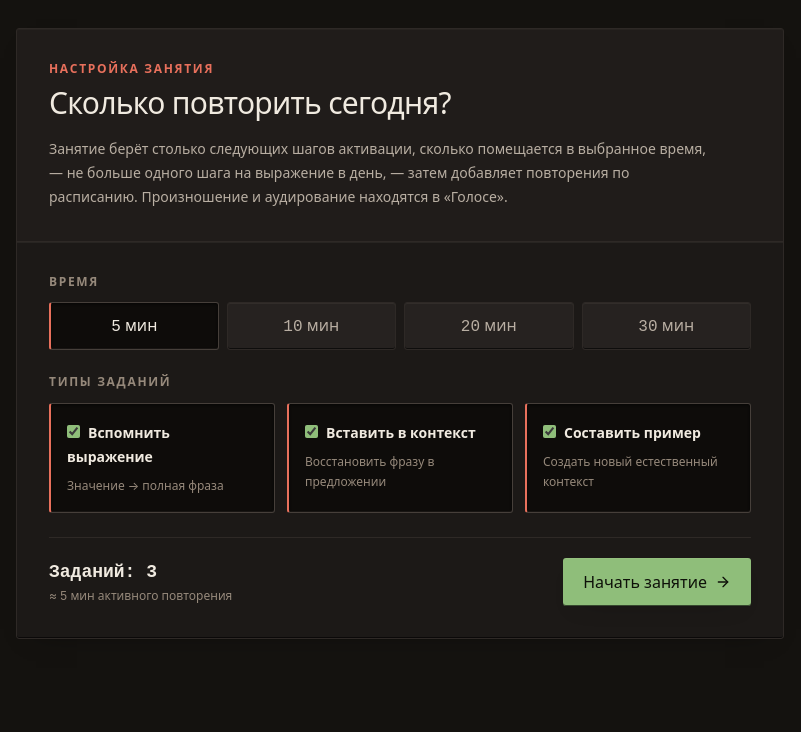
Test: PracticePage cross-route support provenance › keeps one activation lane and two due SRS lanes inside a five-minute session
The image size is (801, 732).
Expected: the text "Заданий: 3" is shown, [49,562,157,582]
Click the button "10 мин".
click(311, 326)  # box [226,302,396,350]
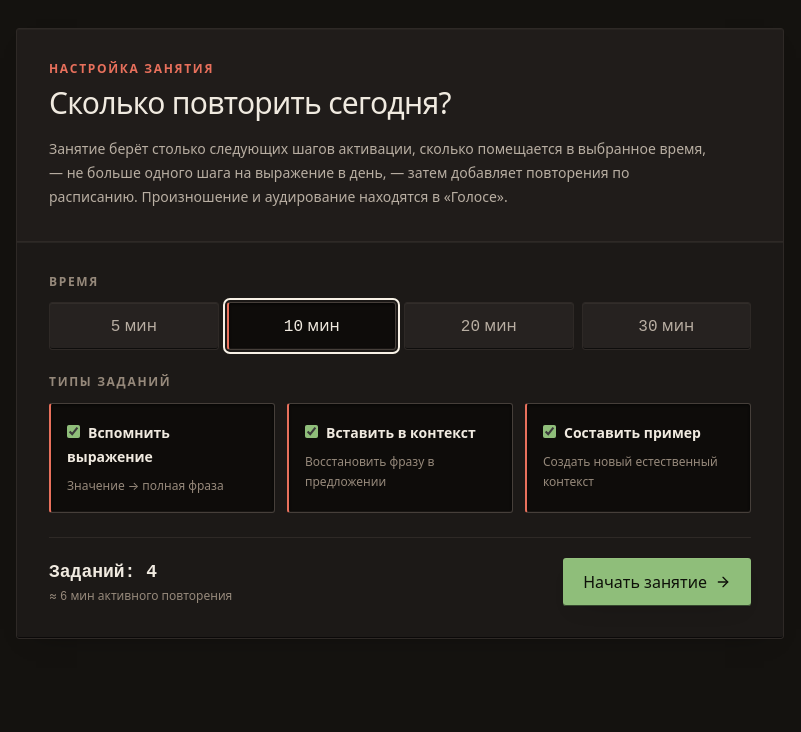
Result: the text "Заданий: 4" is shown at [49,562,157,582]
Click the button "5 мин".
click(134, 326)  # box [49,302,218,350]
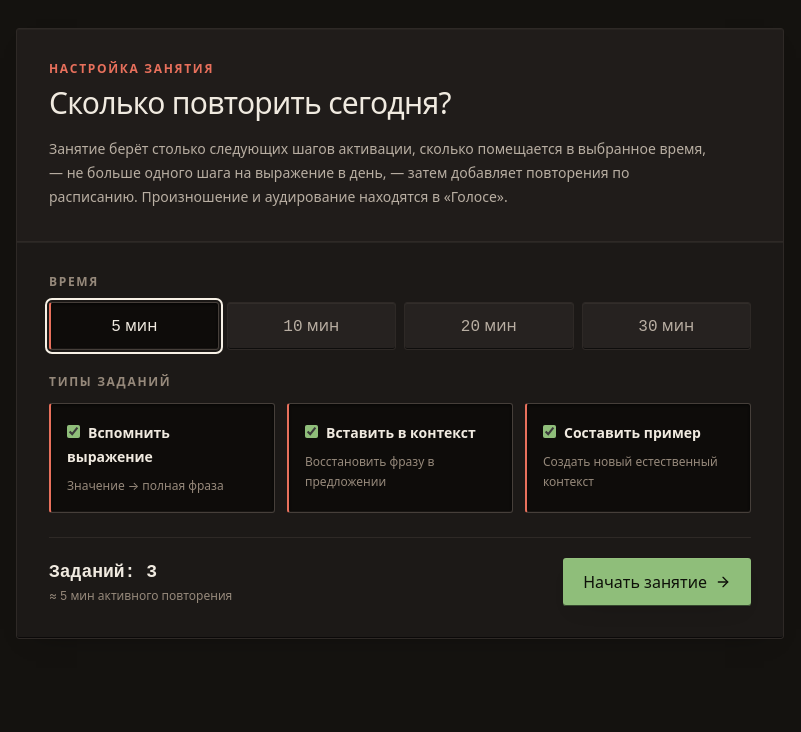
Result: the text "Заданий: 3" is shown at [49,562,157,582]
Click the button "Начать занятие".
click(657, 582)  # box [563,558,751,606]
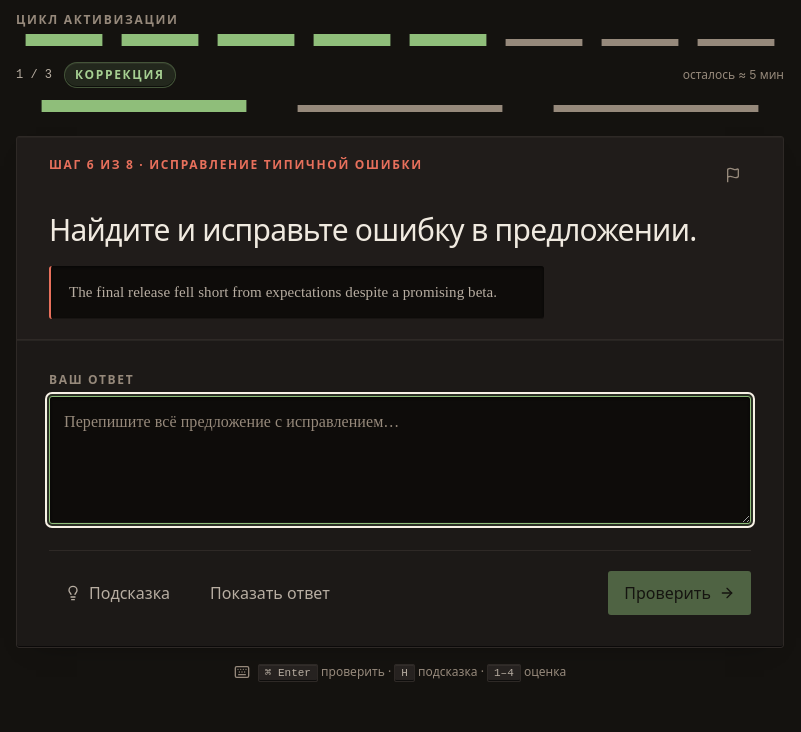
Result: the text "1 / 3" is shown at [16,67,52,83]
Result: the text "Коррекция" is shown at [64,62,176,88]
Type "The final release fell short of expectations despite a promising beta." into the text box with placeholder "Перепишите всё предложение с исправлением…".
click(400, 460); type("The final release fell short of expectations despite a promising beta.")  # box [49,396,751,524]
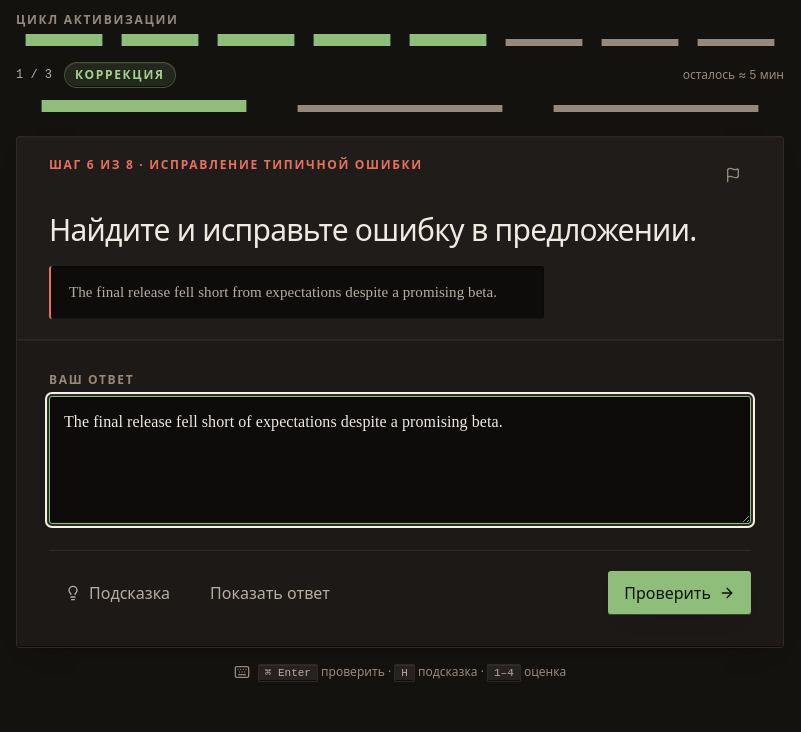
Click the button "Проверить".
click(680, 593)  # box [608,571,751,615]
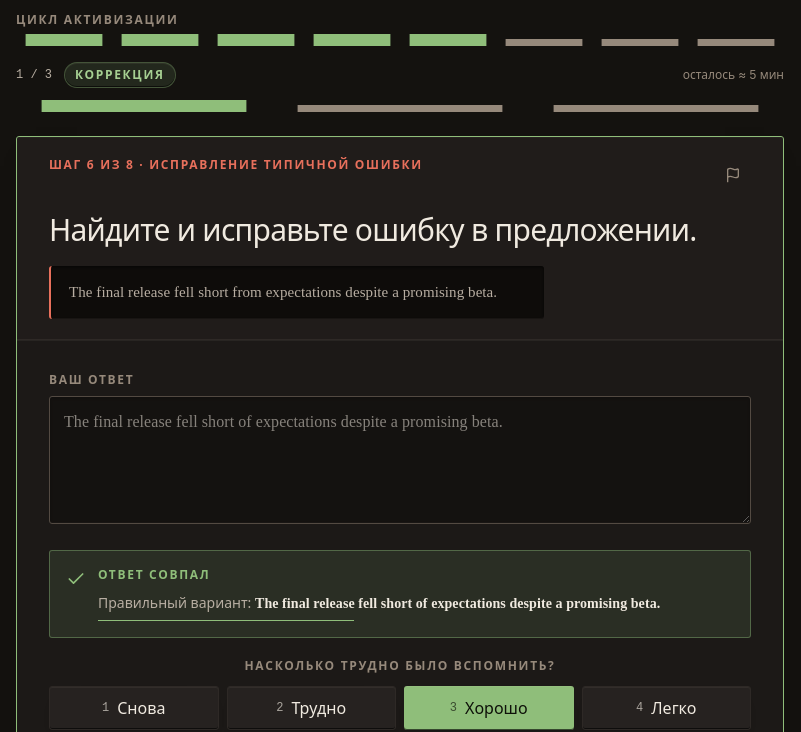
Click the button "3 Хорошо".
click(489, 708)  # box [404,686,574,730]
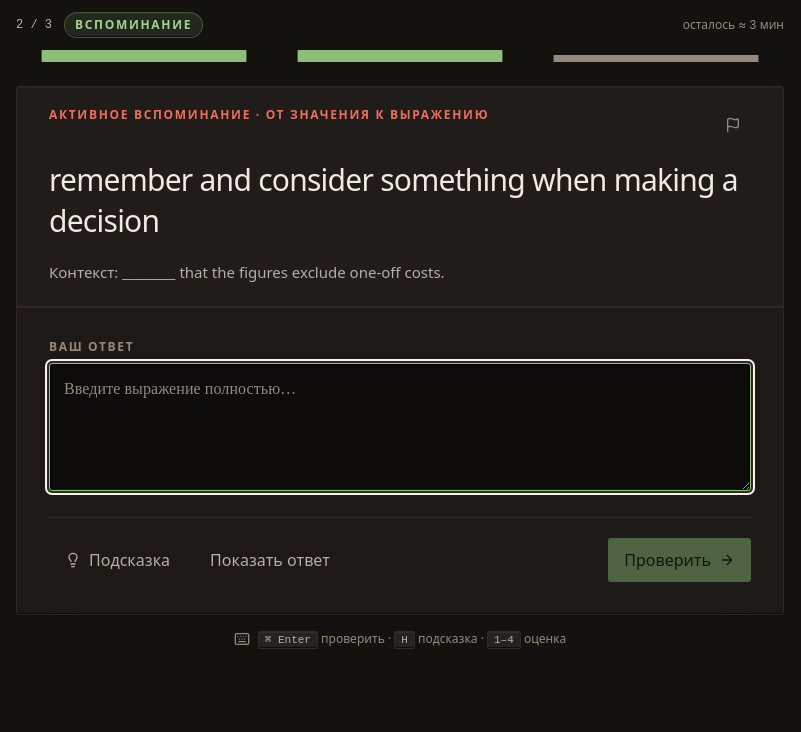
Result: the text "2 / 3" is shown at [16,17,52,33]
Result: the text "Вспоминание" is shown at [64,12,203,38]
